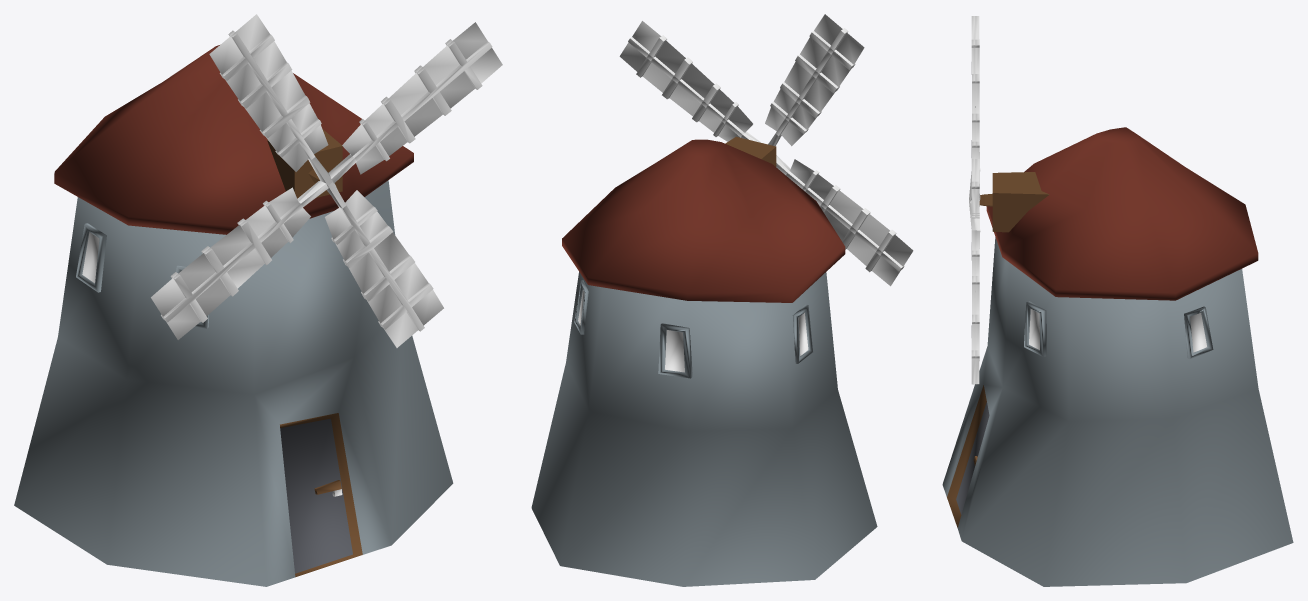
Rendered from windMill001.fbx.
3 renders of one model, left to right at view 1: azimuth 30°, elevation 25°; view 2: azimuth 150°, elevation 25°; view 3: azimuth 270°, elevation 25°, orthographic. The views are drawn at different scales.
Parts seen in each view (by area): view 1: millAna.002; view 2: millAna.002; view 3: millAna.002.
Part boxes in pixels (box(x1,y1,x2,y2)): millAna.002: box(14, 14, 502, 586); millAna.002: box(531, 14, 913, 586); millAna.002: box(942, 16, 1293, 586).
Bounding box in the file's own units: 690 × 1019 × 681.
